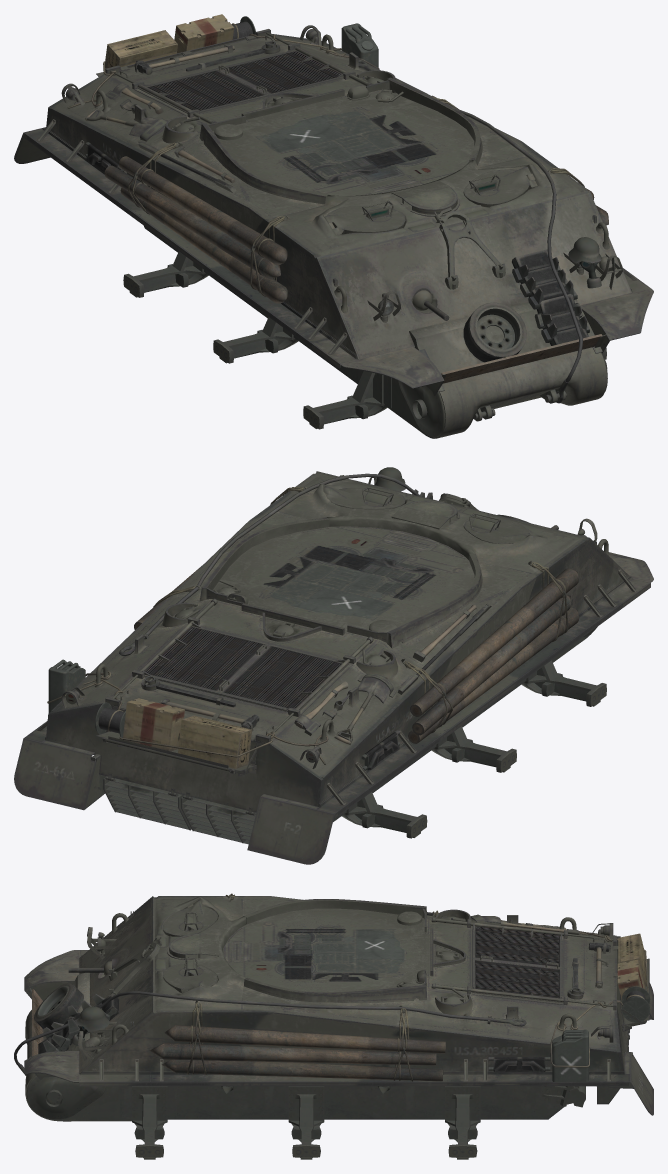
Rendered from Fury_Body.fbx.
3 renders of one model, top to bottom at view 1: azimuth 30°, elevation 25°; view 2: azimuth 150°, elevation 25°; view 3: azimuth 270°, elevation 25°, orthographic. The views are drawn at different scales.
Visible parts, largest first — view 1: american\A104_M4A3E8A\normal\l\Hull.pri~6~5; view 2: american\A104_M4A3E8A\normal\l\Hull.pri~6~5; view 3: american\A104_M4A3E8A\normal\l\Hull.pri~6~5.
Part boxes in pixels (x1,y1,x2,y2): american\A104_M4A3E8A\normal\l\Hull.pri~6~5: (14,14,653,438); american\A104_M4A3E8A\normal\l\Hull.pri~6~5: (14,467,653,864); american\A104_M4A3E8A\normal\l\Hull.pri~6~5: (14,893,653,1159).
Size of the model in its own units: 3.11 by 1.68 by 6.13.
